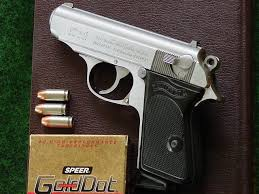gun: (48, 2, 227, 187)
